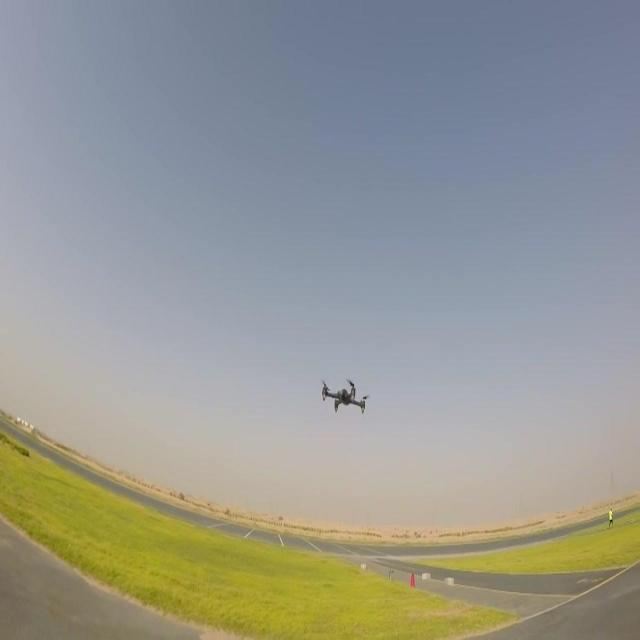UAV: (320, 379, 370, 414)
